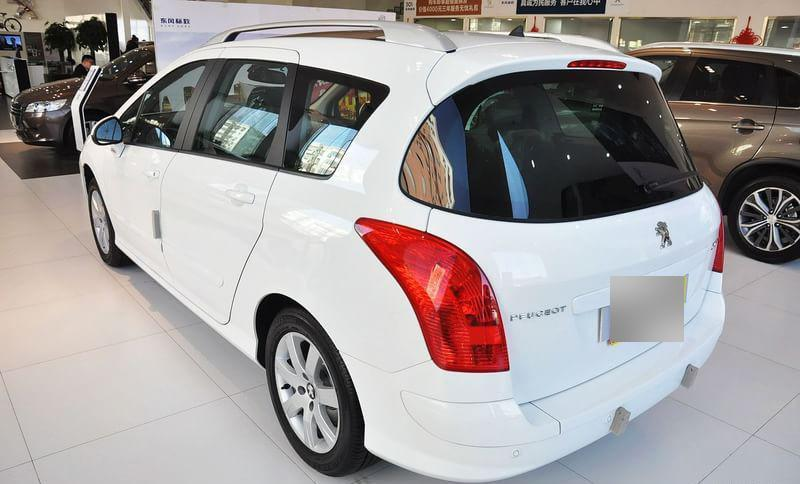Wagon: (80, 18, 726, 484)
